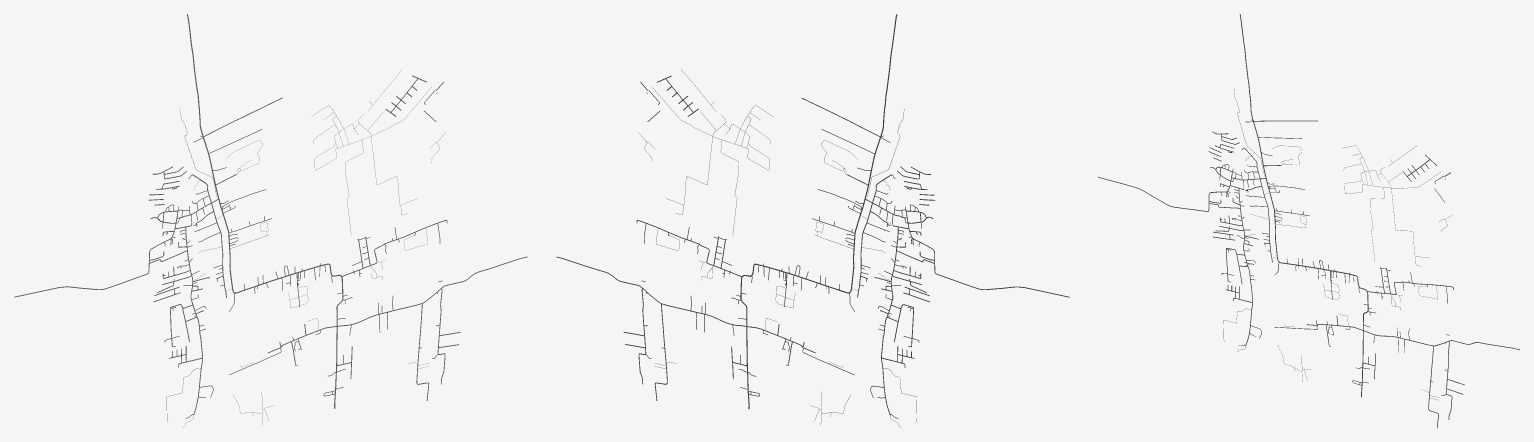
File: roads_0_0.obj
3 renders of one model, left to right at view 1: azimuth 30°, elevation 25°; view 2: azimuth 150°, elevation 25°; view 3: azimuth 330°, elevation 25°, orthographic. The views are drawn at different scales.
Bounding box in the file's own units: 3679 × 3050 × 10.01.
Materials: 3 (3 with a texture image).
